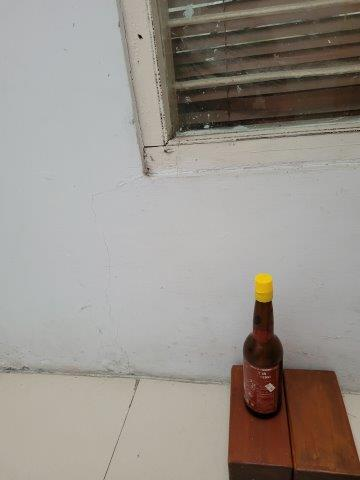botolkaca: (243, 276, 282, 416)
